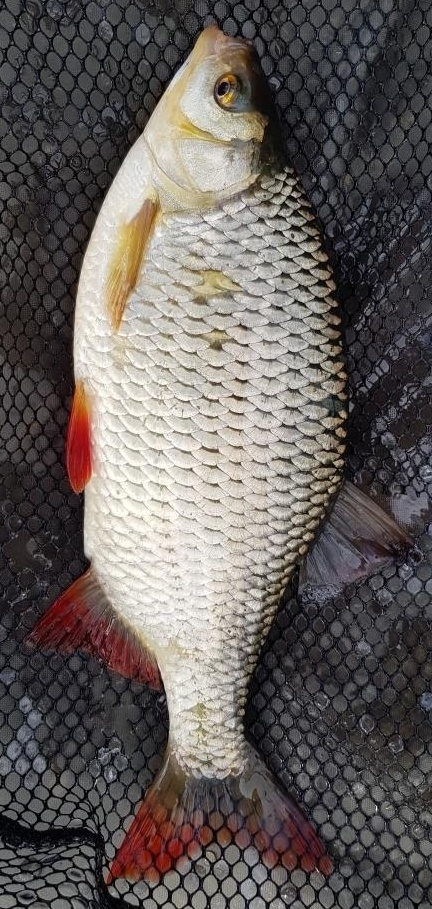Scardinius erythrophthalmus: (20, 20, 412, 889)
